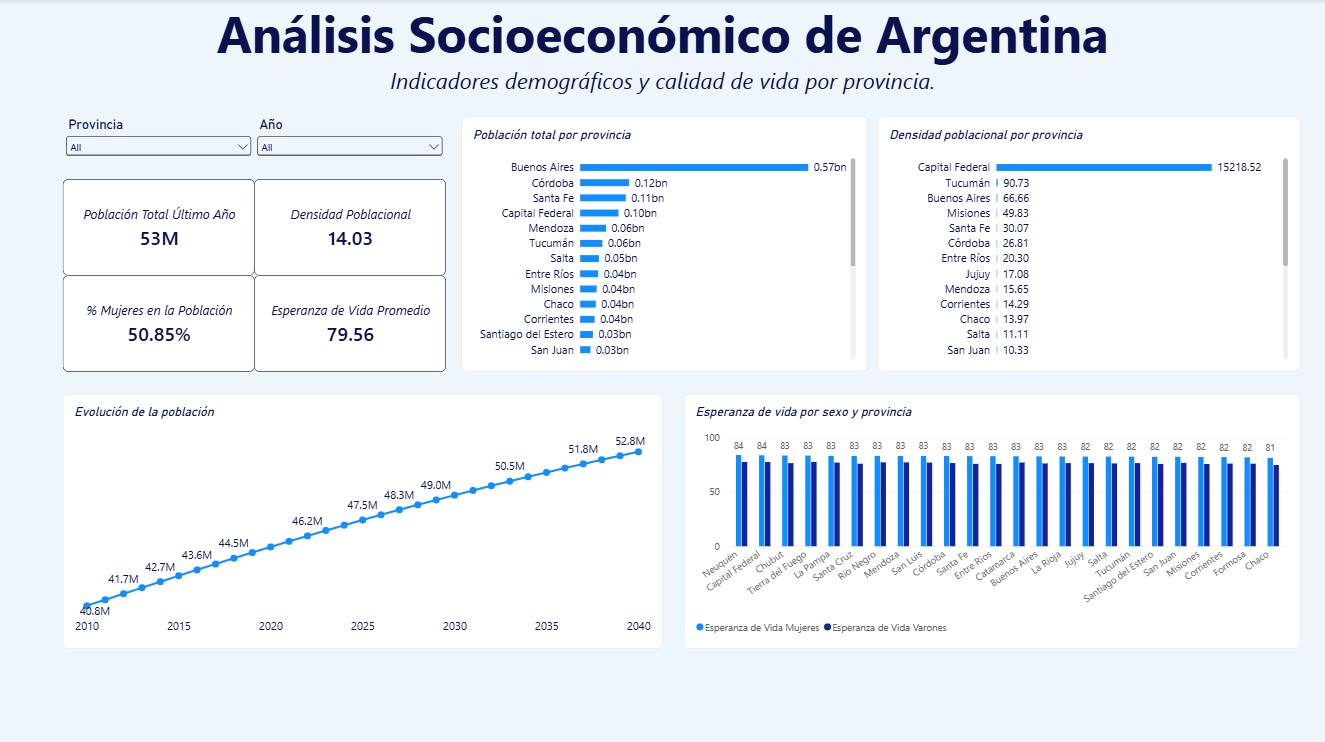

Layout of this report page (visuals, bound fields, positions):
{"tool":"powerbi","page":{"name":"Demografía","canvas":[1920,1080],"ordinal":1},"visuals":[{"type":"slicer","fields":{"Values":["Dim_Fecha.Date.Variation.Date Hierarchy.Year"]},"box":[370,170,278,64],"z":0},{"type":"slicer","fields":{"Values":["Dim_Provincia.provincia"]},"box":[92,170,278,64],"z":1000},{"type":"cardVisual","fields":{"Data":["Fact_Poblacion.Población Total Último Año"]},"box":[92,260,278,140],"z":2000},{"type":"cardVisual","fields":{"Data":["Fact_Poblacion.Densidad Poblacional Último Año"]},"box":[370,260,278,140],"z":3000},{"type":"cardVisual","fields":{"Data":["Fact_Poblacion.% Mujeres en la Población"]},"box":[92,400,278,140],"z":4000},{"type":"cardVisual","fields":{"Data":["Fact_EsperanzaVida.Esperanza de Vida Promedio"]},"box":[370,400,278,140],"z":5000},{"type":"textbox","box":[284,0,1353.4,150],"z":6000},{"type":"clusteredBarChart","title":"Población total por provincia","fields":{"Category":["Dim_Provincia.provincia"],"Y":["Fact_Poblacion.Población Total"]},"box":[669.6,170.1,588.1,369.2],"z":8000},{"type":"clusteredBarChart","title":"Densidad poblacional por provincia","fields":{"Category":["Dim_Provincia.provincia"],"Y":["Fact_Poblacion.Densidad Poblacional Último Año"]},"box":[1272.2,170.1,611.7,369.2],"z":8001},{"type":"lineChart","title":"Evolución de la población","fields":{"Category":["Dim_Fecha.Date.Variation.Date Hierarchy.Year"],"Y":["Fact_Poblacion.Población Total"]},"box":[92.3,571.9,868.6,369.2],"z":8002},{"type":"clusteredColumnChart","title":"Esperanza de vida por sexo y provincia","fields":{"Category":["Dim_Provincia.provincia"],"Y":["Fact_EsperanzaVida.Esperanza de Vida Mujeres","Fact_EsperanzaVida.Esperanza de Vida Varones"]},"box":[991.7,571.9,892.2,369.2],"z":8003}]}

Visuals, with their boxes in screenshot pixels (x1, y1, x2, y2), scaled from the page's 1920x1080 canvas onto the 1325x742 screenshot:
slicer - Dim_Fecha.Date.Variation.Date Hierarchy.Year: 255, 117, 447, 161
slicer - Dim_Provincia.provincia: 63, 117, 255, 161
cardVisual - Fact_Poblacion.Población Total Último Año: 63, 179, 255, 275
cardVisual - Fact_Poblacion.Densidad Poblacional Último Año: 255, 179, 447, 275
cardVisual - Fact_Poblacion.% Mujeres en la Población: 63, 275, 255, 371
cardVisual - Fact_EsperanzaVida.Esperanza de Vida Promedio: 255, 275, 447, 371
textbox: 196, 0, 1130, 103
"Población total por provincia" clusteredBarChart: 462, 117, 868, 371
"Densidad poblacional por provincia" clusteredBarChart: 878, 117, 1300, 371
"Evolución de la población" lineChart: 64, 393, 663, 647
"Esperanza de vida por sexo y provincia" clusteredColumnChart: 684, 393, 1300, 647
